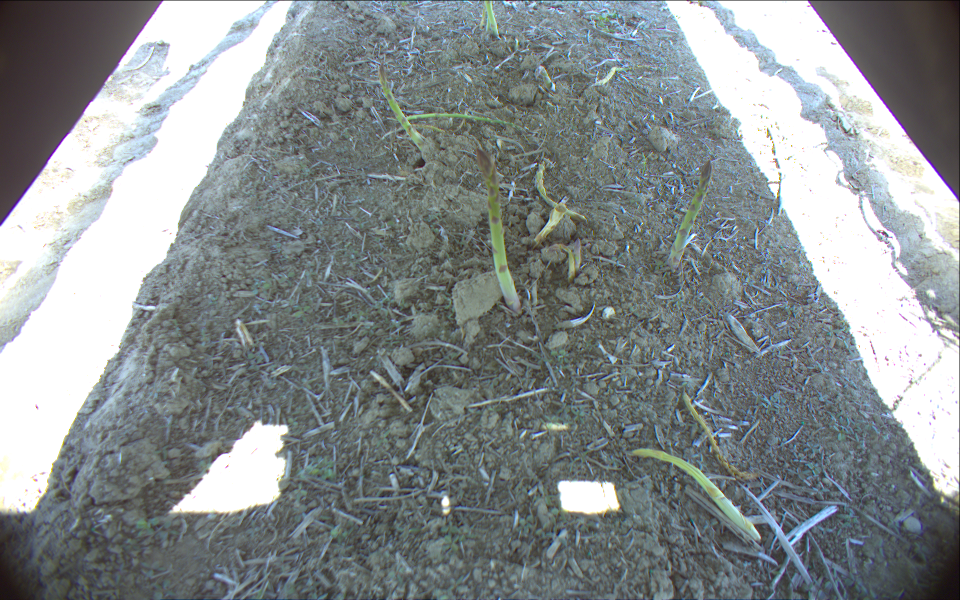aspa: (471, 148, 523, 318), (665, 160, 713, 275), (375, 62, 427, 156), (479, 1, 501, 42)
